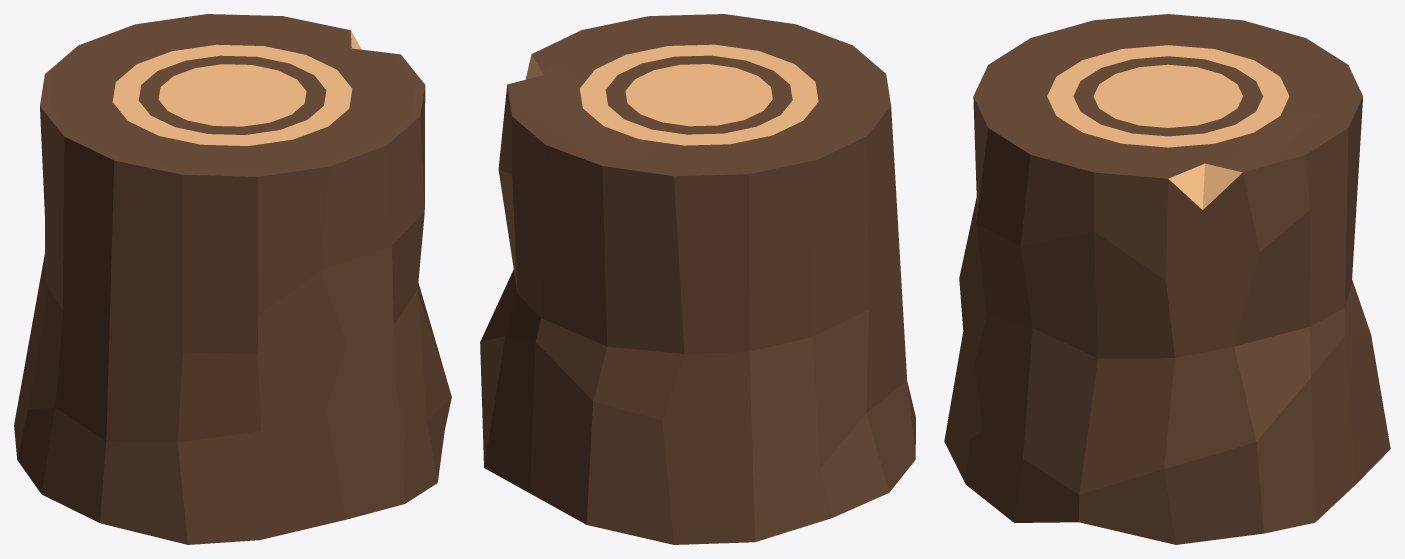
The model's file is cc_tree_stump_v2.fbx.
3 renders of one model, left to right at view 1: azimuth 30°, elevation 25°; view 2: azimuth 150°, elevation 25°; view 3: azimuth 270°, elevation 25°, orthographic.
Visible parts, largest first — view 1: Cylinder; view 2: Cylinder; view 3: Cylinder.
Boxes of the visible parts, box(x1,y1,x2,y2) form: Cylinder: box(14, 14, 451, 544); Cylinder: box(480, 14, 915, 544); Cylinder: box(944, 14, 1390, 544).
Bounding box in the file's own units: 262 × 251 × 270.
